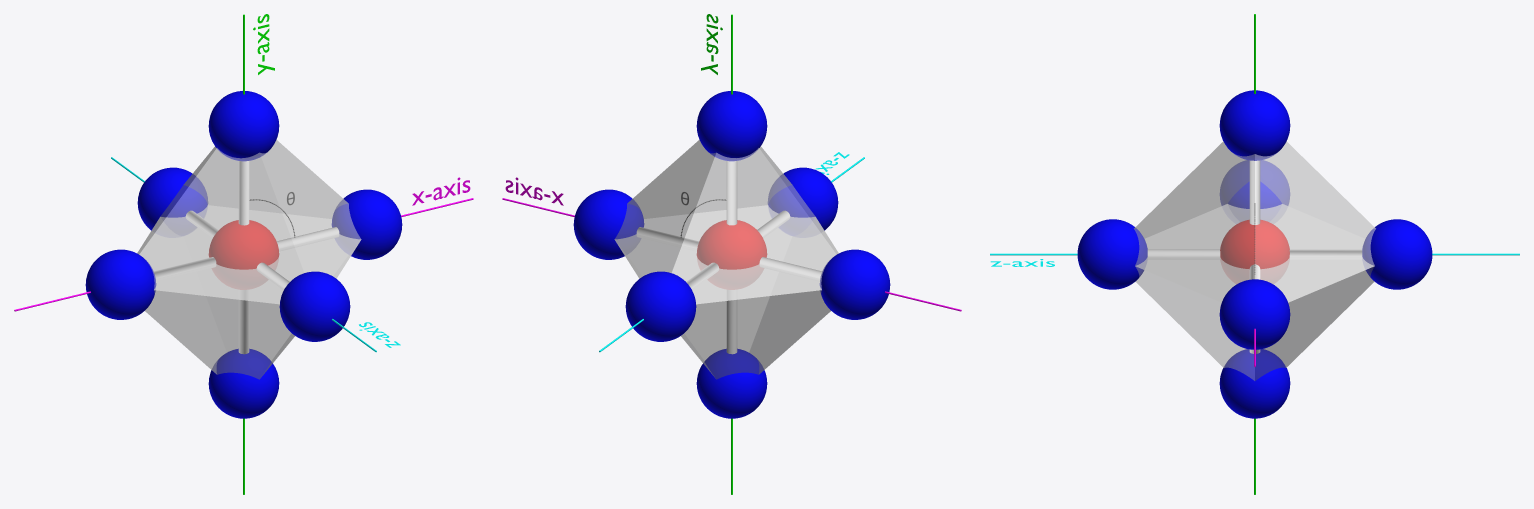
The model's file is octahedral_shape.glb.
3 views of the same model, side by side, from view 1: azimuth 30°, elevation 25°; view 2: azimuth 150°, elevation 25°; view 3: azimuth 270°, elevation 25° (orthographic).
Visible parts, largest first — view 1: 1 octahedral, shape top, shape down; view 2: 1 octahedral, shape top, shape down; view 3: 1 octahedral, shape top, shape down.
Part boxes in pixels (left/top/right/bottom): 1 octahedral: left=85, top=91, right=402, bottom=418; shape top: left=137, top=140, right=361, bottom=304; shape down: left=137, top=205, right=360, bottom=379; 1 octahedral: left=573, top=91, right=890, bottom=418; shape top: left=614, top=140, right=838, bottom=304; shape down: left=615, top=205, right=838, bottom=379; 1 octahedral: left=1077, top=90, right=1432, bottom=418; shape top: left=1134, top=141, right=1375, bottom=302; shape down: left=1135, top=204, right=1374, bottom=380.
Bounding box in the file's own units: 6 × 6 × 6.
